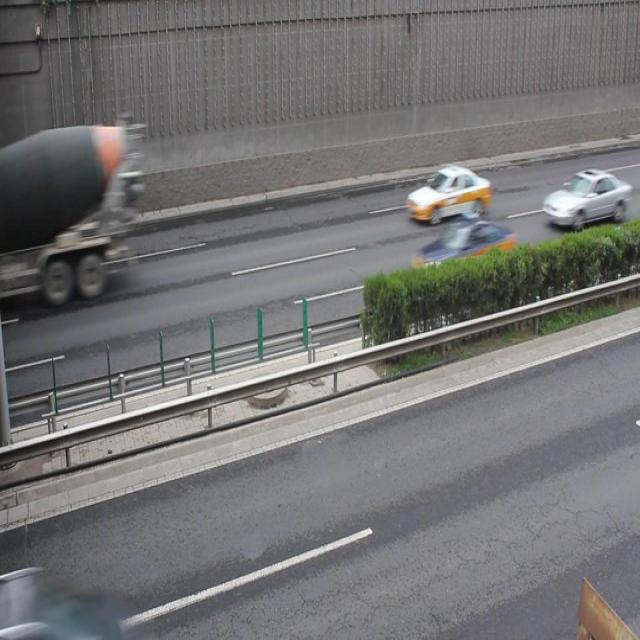bus: (0, 122, 126, 301)
car: (410, 216, 514, 294), (540, 166, 625, 230), (405, 160, 489, 223)
